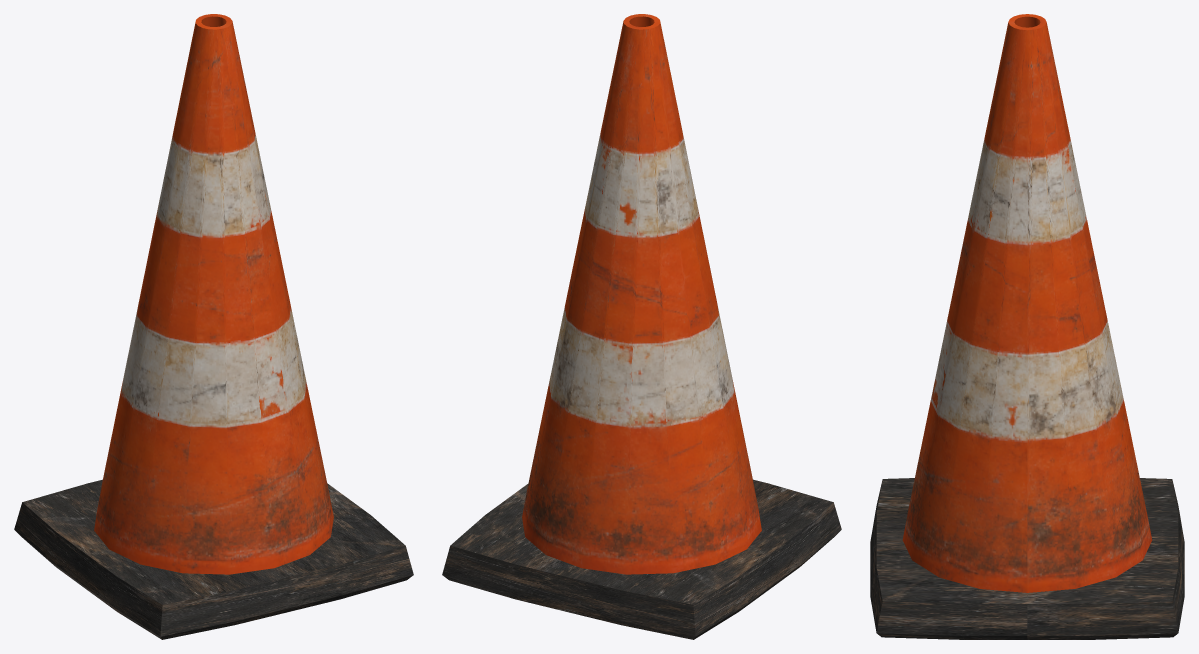
Rendered from ThaiTrafficCone_Worn.fbx.
The picture shows the model from 3 angles, left to right: view 1: azimuth 30°, elevation 25°; view 2: azimuth 150°, elevation 25°; view 3: azimuth 270°, elevation 25°; orthographic projection. The views are drawn at different scales.
Visible parts, largest first — view 1: ThaiTrafficCone_Worn; view 2: ThaiTrafficCone_Worn; view 3: ThaiTrafficCone_Worn.
Boxes of the visible parts, <box> form: ThaiTrafficCone_Worn: <box>14,14,413,639</box>; ThaiTrafficCone_Worn: <box>442,14,841,639</box>; ThaiTrafficCone_Worn: <box>870,14,1184,639</box>.
Size of the model in its own units: 36 by 70 by 36.
1 material, 1 textured.
